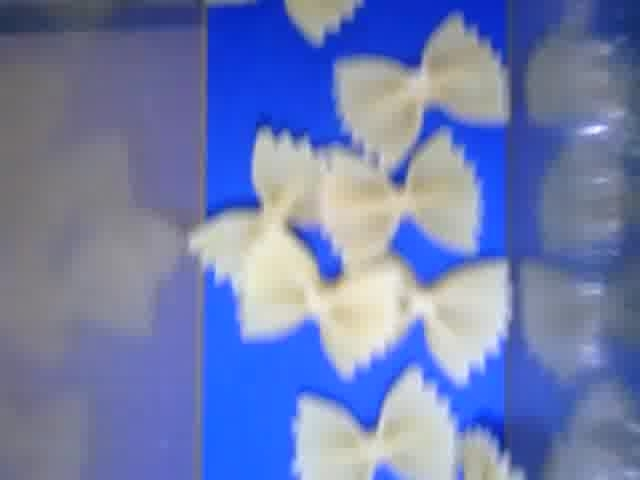farfalle: (332, 13, 508, 176), (241, 227, 402, 381), (343, 244, 514, 386), (191, 122, 328, 293), (326, 128, 483, 265), (289, 363, 457, 480), (282, 1, 363, 46)
